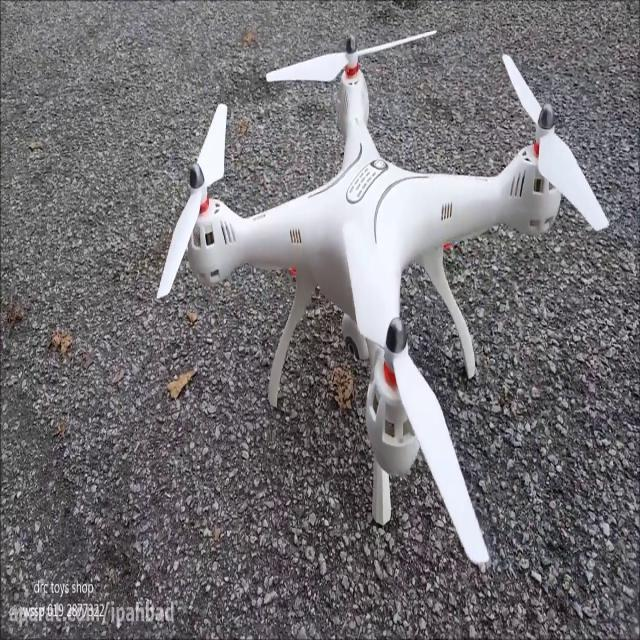drone: (153, 25, 606, 571)
